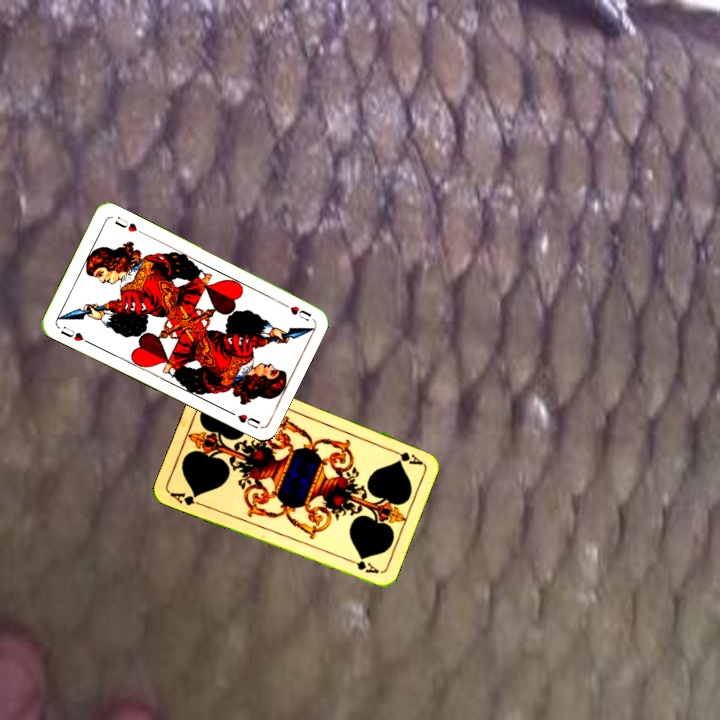GA: (386, 444, 425, 467), (166, 488, 206, 509)
HU: (277, 298, 314, 324), (56, 322, 92, 346)
